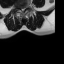CCS_stenosis: (22, 6, 23, 13)
LFS_severe_stenosis: (25, 4, 27, 9)
LLS_stenosis: (23, 6, 25, 11)
RFS_severe_stenosis: (18, 5, 20, 10)
RLS_severe_stenosis: (20, 6, 22, 11)
